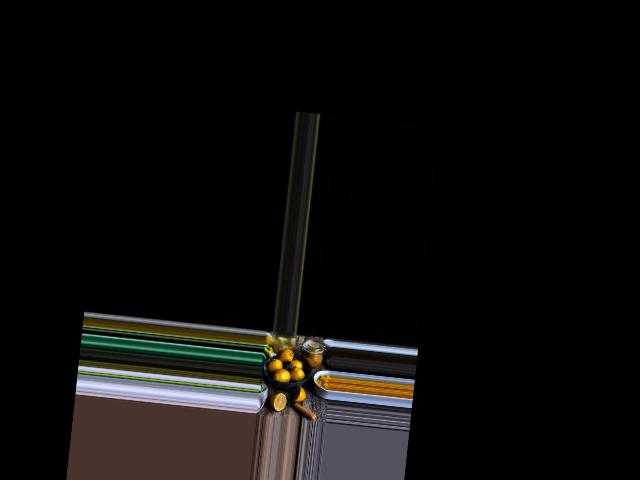lemon: (290, 366, 305, 383)
